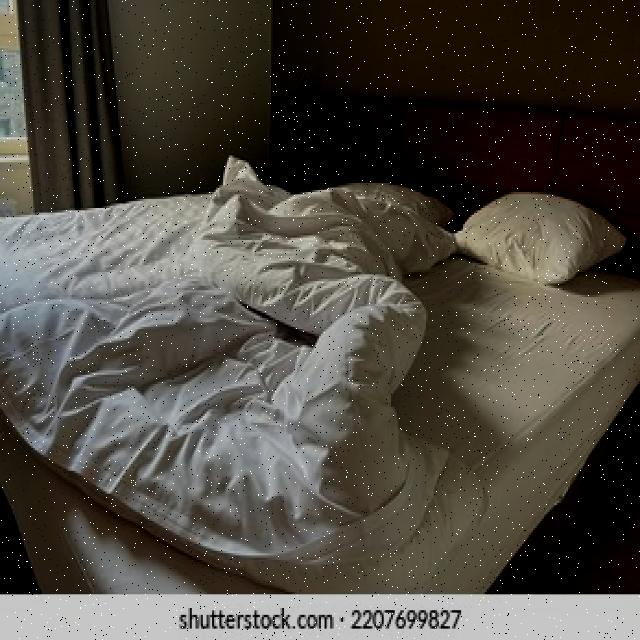bed: (0, 154, 640, 594)
